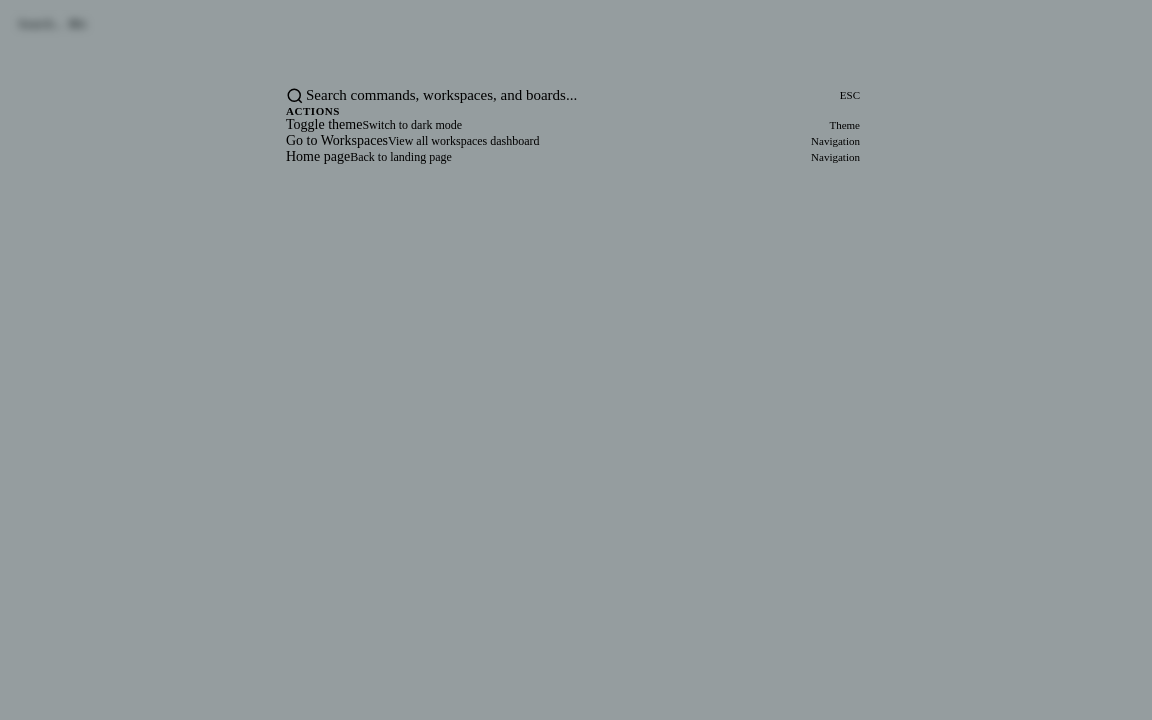
CommandPalette › filters commands when typing in search input
Type "theme" into the field with placeholder "Search commands, workspaces, and boards..." at (569, 96), box 304,86 -> 834,105
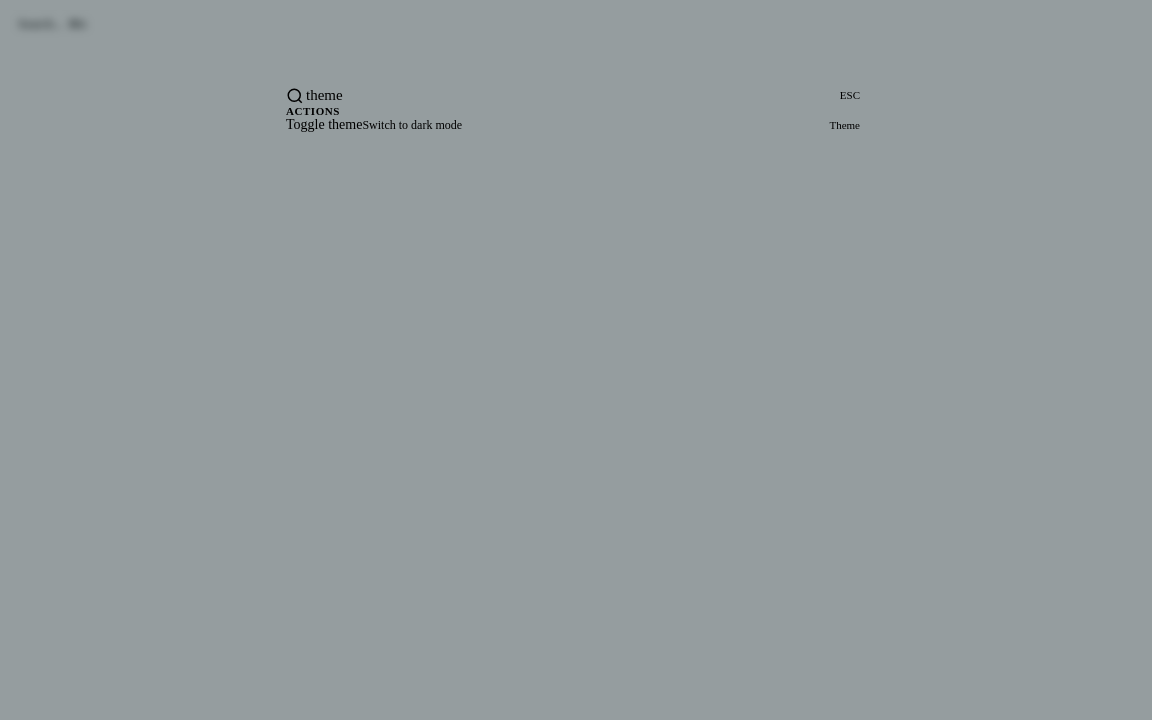
Expected: the text "Toggle theme" is shown, 286,117 -> 362,133
Now the option "Home page" is gone
